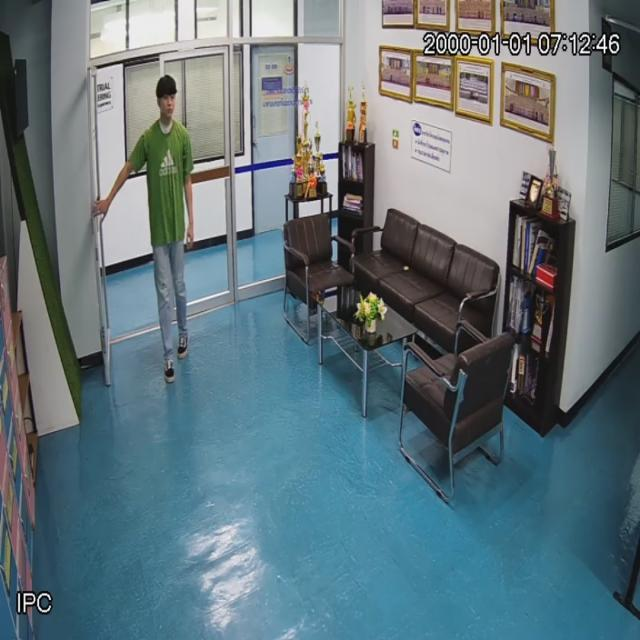normal: (140, 73, 203, 382)
